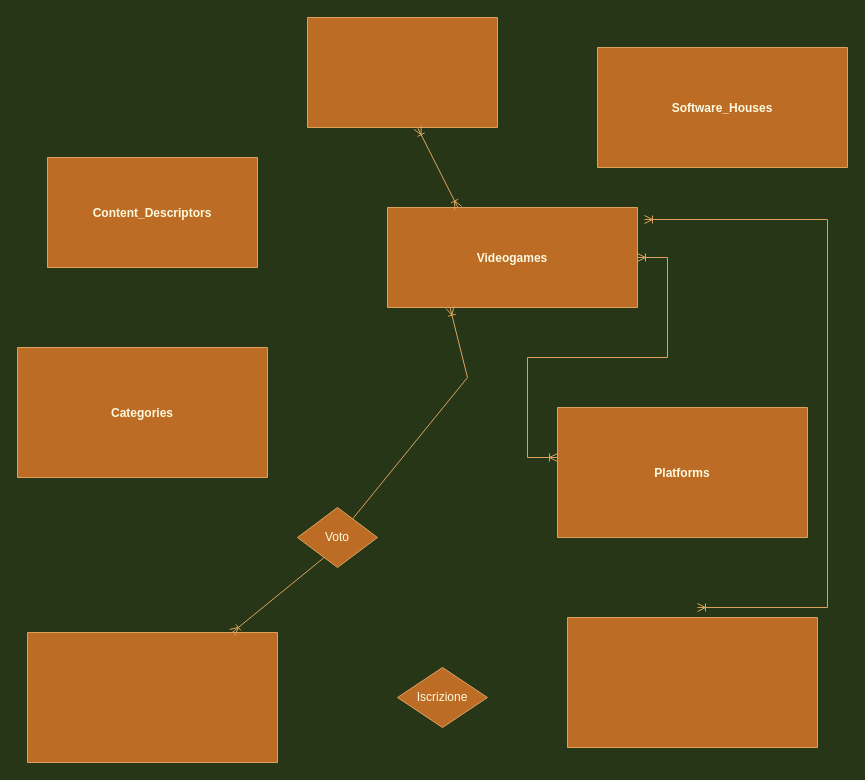
Some shapes in this 865 by 780 pixel diagram are drawn without their labels. The centre of each missing label's shape, as x and y in pixels:
"Awards" goes at [402,72].
"Players" goes at [152,697].
"Tournaments" goes at [692,682].
